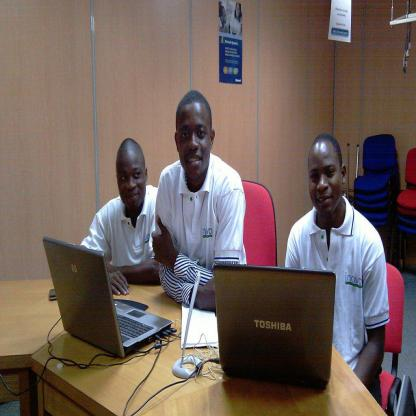board: (44, 238, 173, 358), (216, 270, 336, 396)
